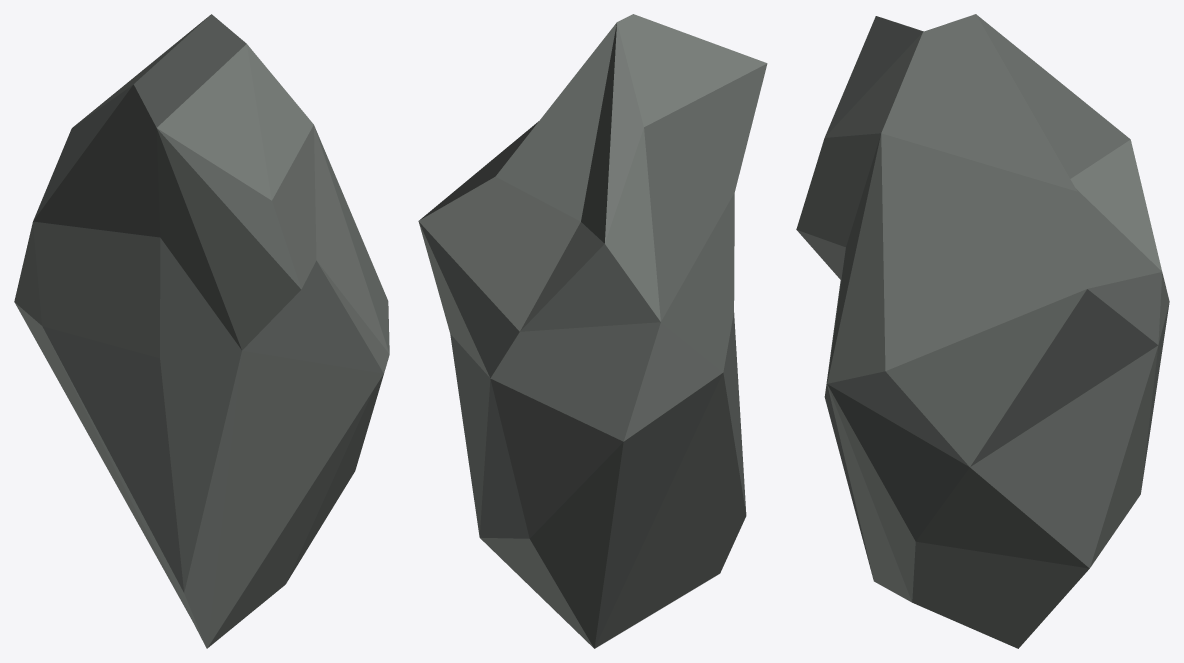
The model's file is Large_Boulder.002.glb.
3 renders of one model, left to right at view 1: azimuth 30°, elevation 25°; view 2: azimuth 150°, elevation 25°; view 3: azimuth 270°, elevation 25°, orthographic. The views are drawn at different scales.
Parts seen in each view (by area): view 1: Large_Boulder.002; view 2: Large_Boulder.002; view 3: Large_Boulder.002.
Boxes of the visible parts, left/top/right/bottom form: Large_Boulder.002: left=14, top=14, right=389, bottom=648; Large_Boulder.002: left=418, top=14, right=767, bottom=648; Large_Boulder.002: left=796, top=14, right=1169, bottom=648.
Bounding box in the file's own units: 2.24 × 4.27 × 2.28.
1 material, 1 textured.
